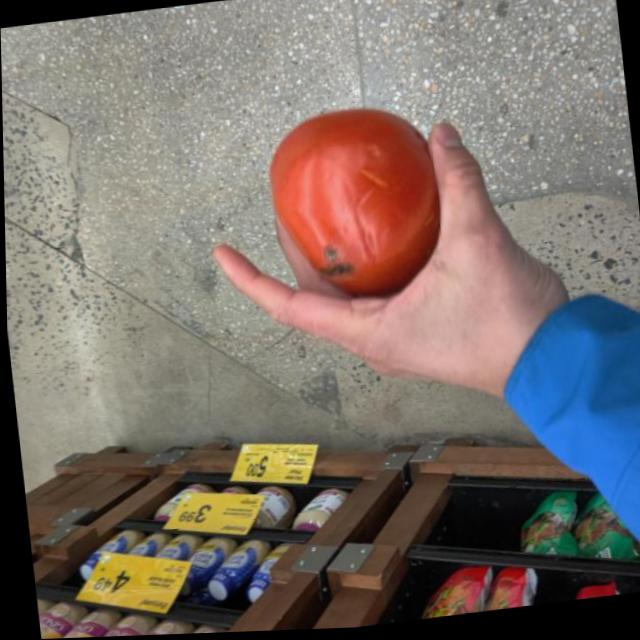Tomatoes: (270, 104, 449, 312)
